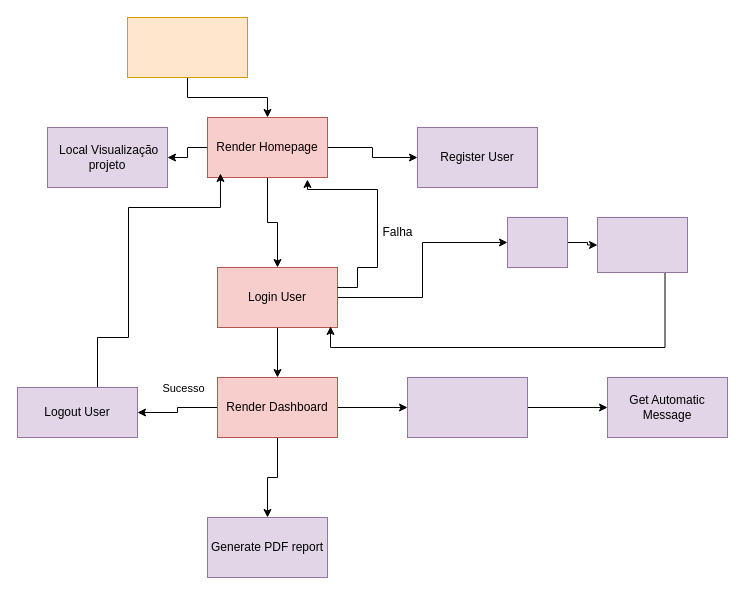
This 745x595 diagram has some shape labels left out. The shapes that lost their labels are listed below. From the top down, each one's box as (x1, y1, x2, y2) in pixels, then its label:
(126, 16, 248, 78): Start Project
(506, 216, 568, 268): Forgot Password?
(596, 216, 688, 272): Reset password
(406, 376, 528, 438): Render Chatbot
